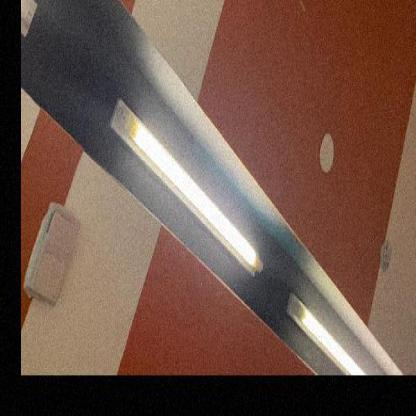light_on: (100, 84, 268, 279), (285, 282, 367, 375)
